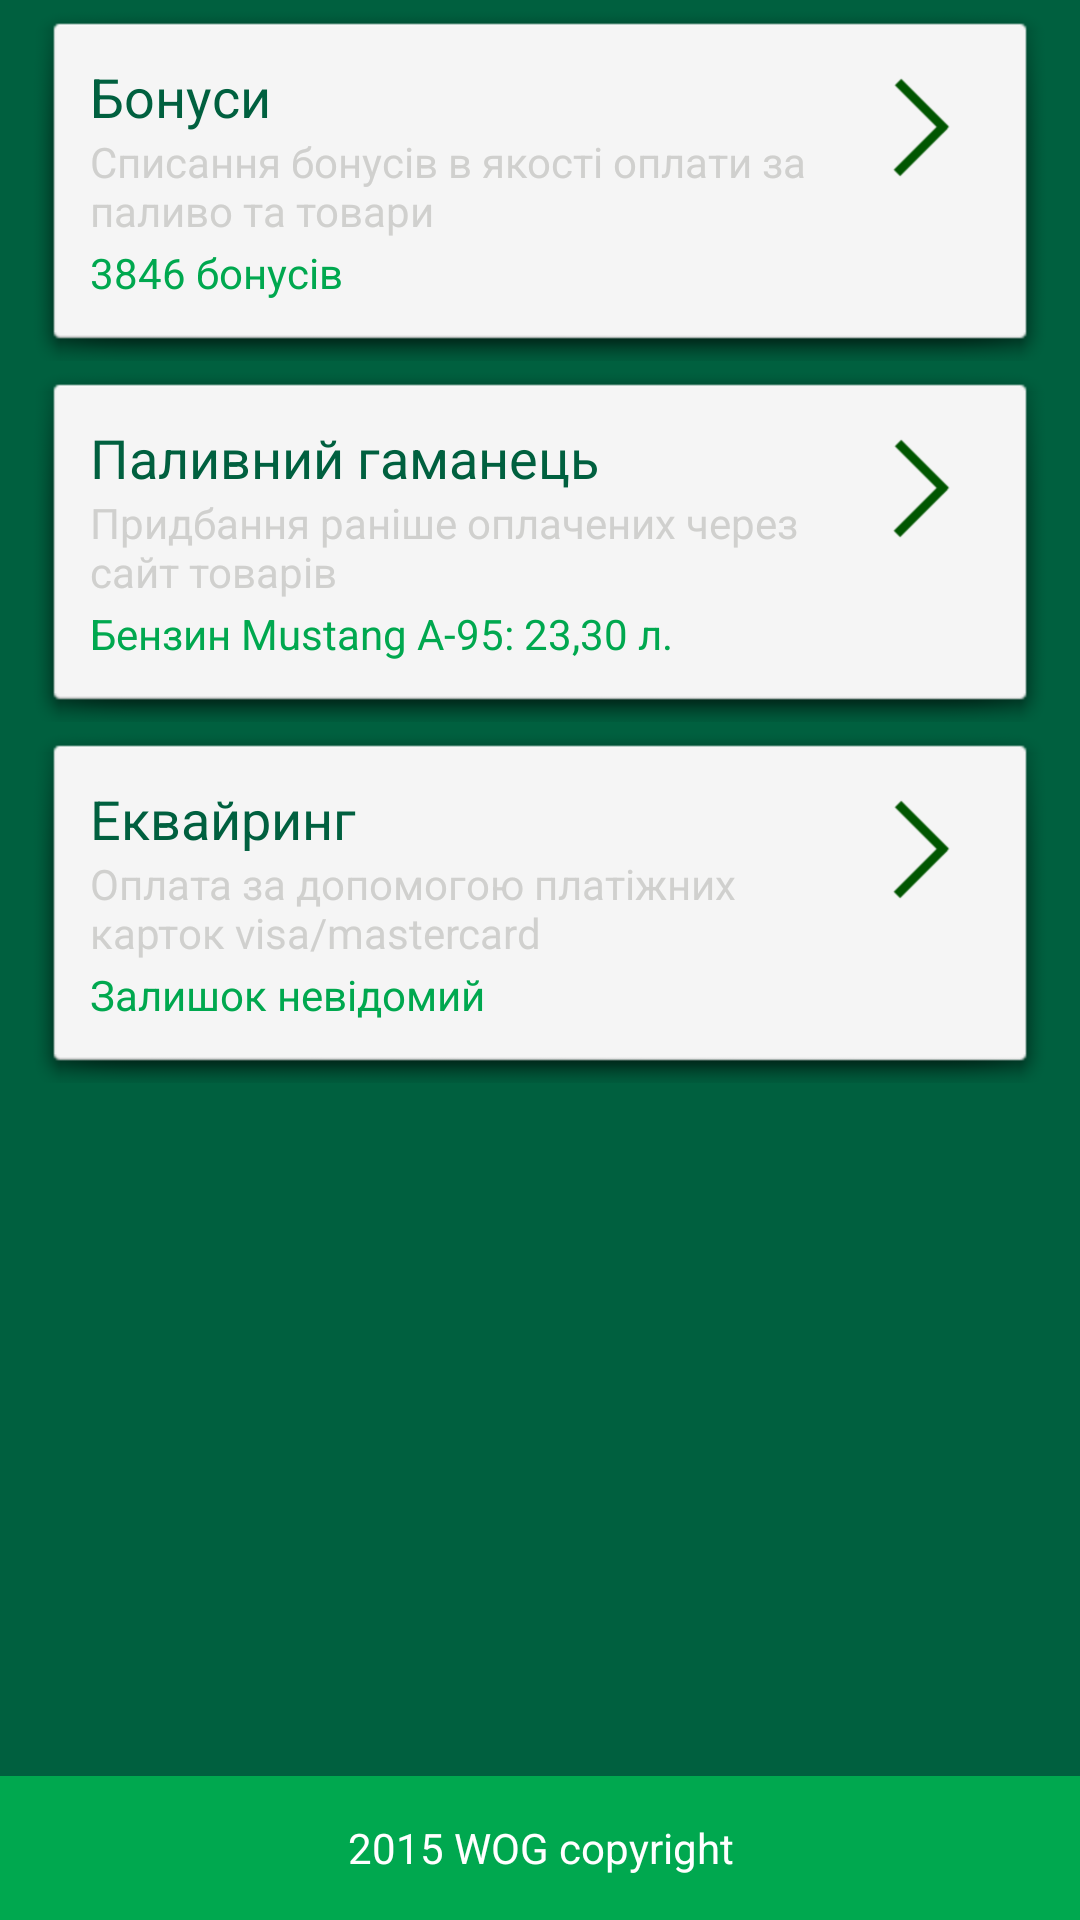

Named icons in this screenshot (1080×1920) and their centers, [x,y]:
next: [921,127], [921,488], [921,849]
